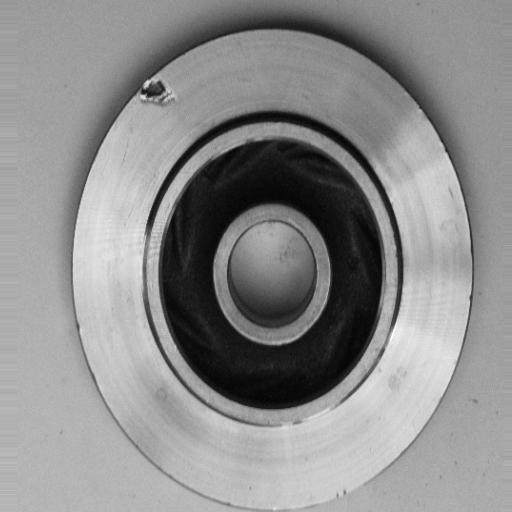crack: (127, 69, 191, 125)
scratch: (267, 399, 349, 446)
unpolished_casting: (69, 22, 473, 512)
